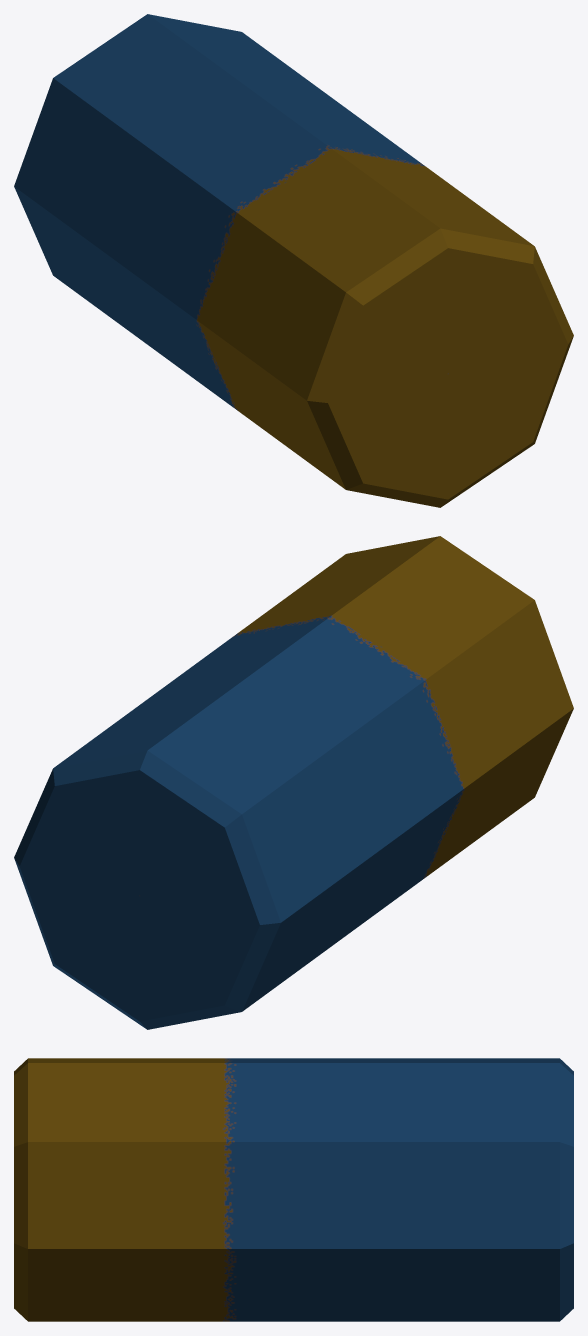
The picture shows the model from 3 angles, top to bottom: view 1: azimuth 30°, elevation 25°; view 2: azimuth 150°, elevation 25°; view 3: azimuth 270°, elevation 25°; orthographic projection. The views are drawn at different scales.
Parts seen in each view (by area): view 1: ポリゴンメッシュ; view 2: ポリゴンメッシュ; view 3: ポリゴンメッシュ.
Boxes of the visible parts, <box> form: ポリゴンメッシュ: <box>14,14,573,507</box>; ポリゴンメッシュ: <box>14,536,573,1029</box>; ポリゴンメッシュ: <box>14,1058,573,1321</box>.
Size of the model in its own units: 100 by 100 by 200.
Materials: 1 (1 with a texture image).
